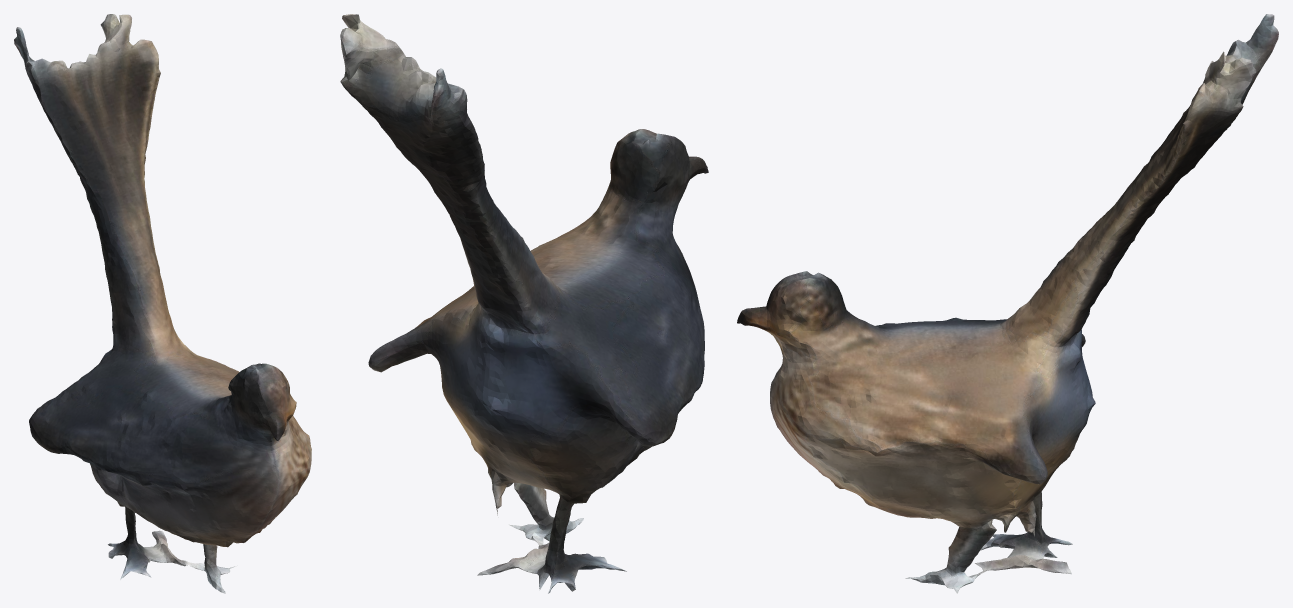
3 views of the same model, side by side, from view 1: azimuth 30°, elevation 25°; view 2: azimuth 150°, elevation 25°; view 3: azimuth 270°, elevation 25° (orthographic). The views are drawn at different scales.
Visible parts, largest first — view 1: Mesh_0.001; view 2: Mesh_0.001; view 3: Mesh_0.001.
Boxes of the visible parts, left/top/right/bottom form: Mesh_0.001: left=14, top=14, right=311, bottom=593; Mesh_0.001: left=340, top=14, right=708, bottom=593; Mesh_0.001: left=737, top=14, right=1278, bottom=593.
Bounding box in the file's own units: 0.3409 × 0.6856 × 0.6124.
Materials: 1 (1 with a texture image).
